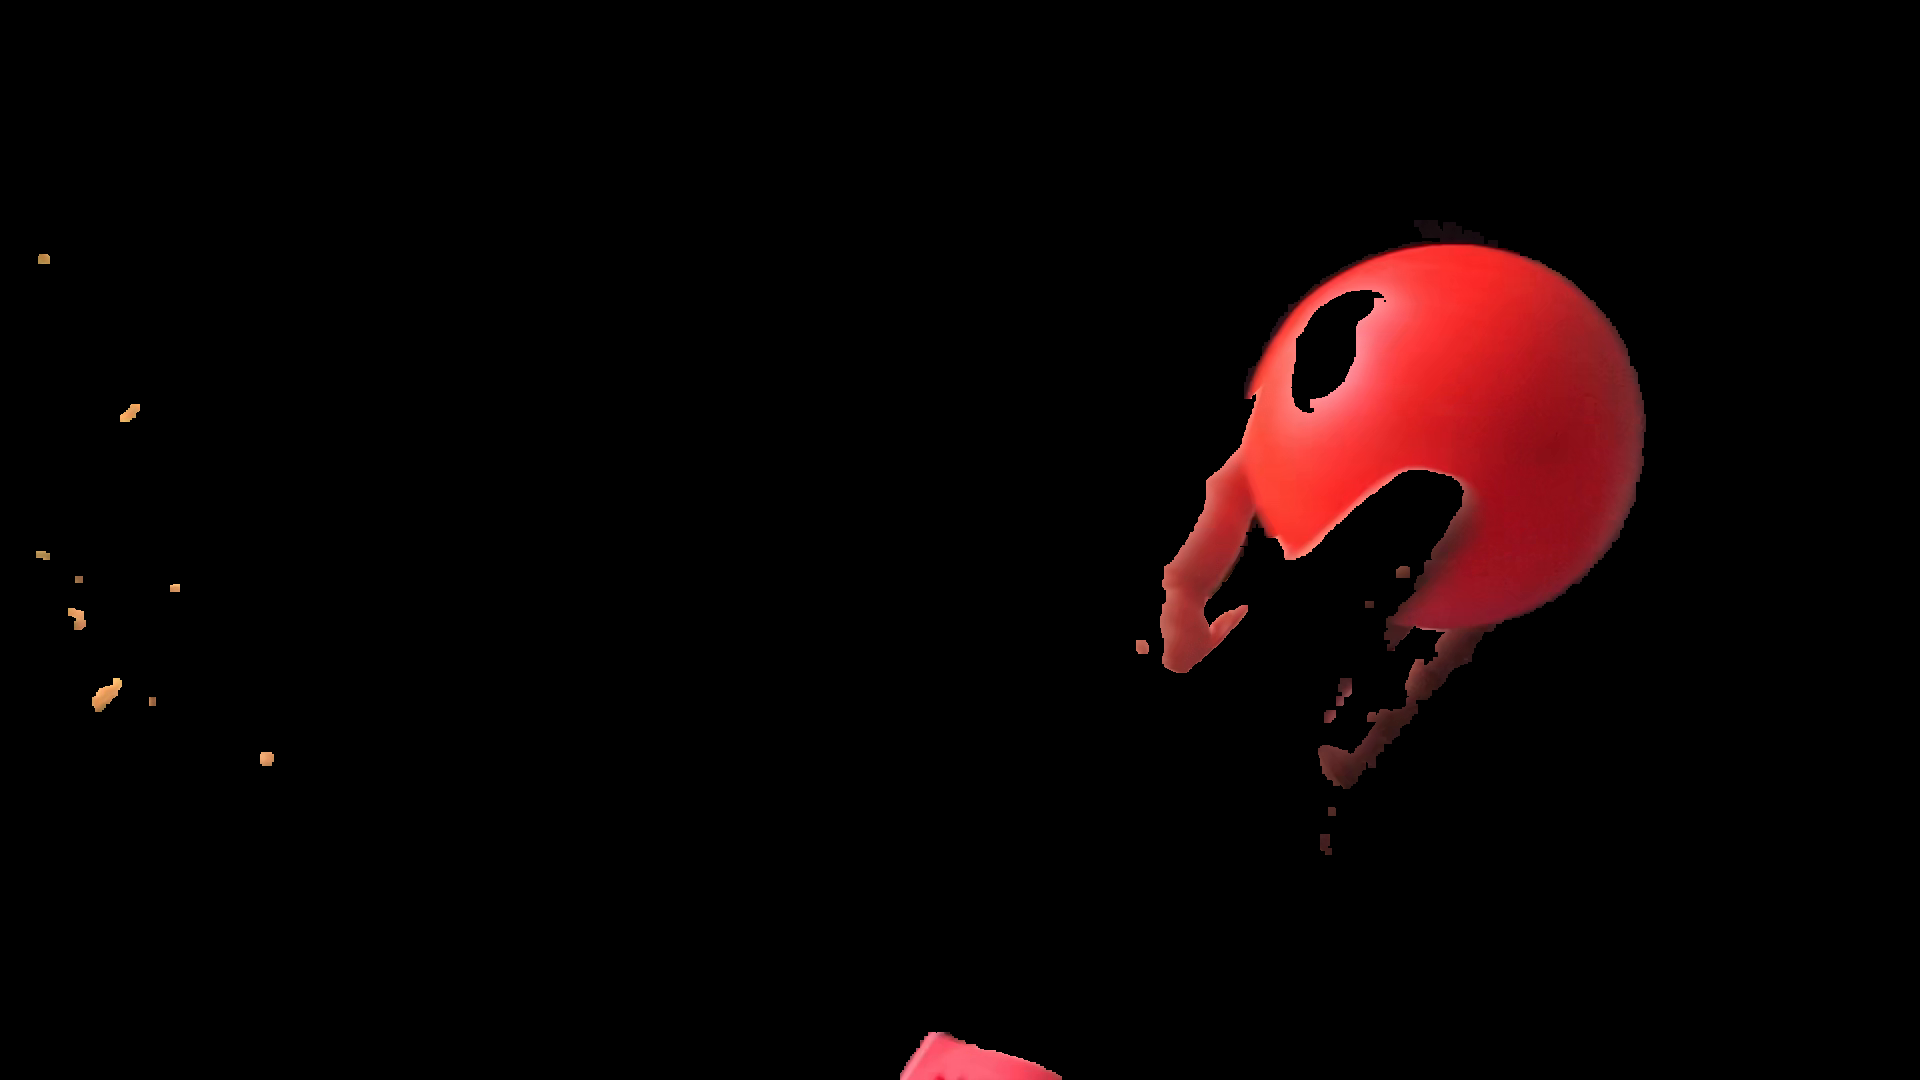Ball: (1246, 239, 1646, 633)
